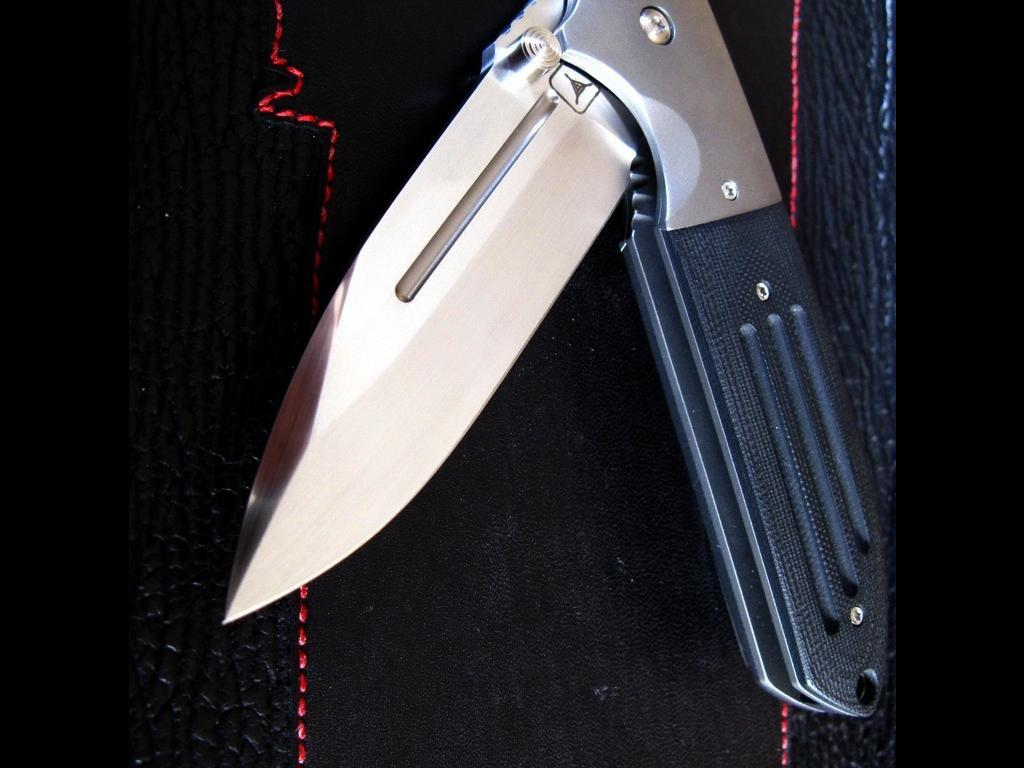melee: (216, 0, 884, 719)
